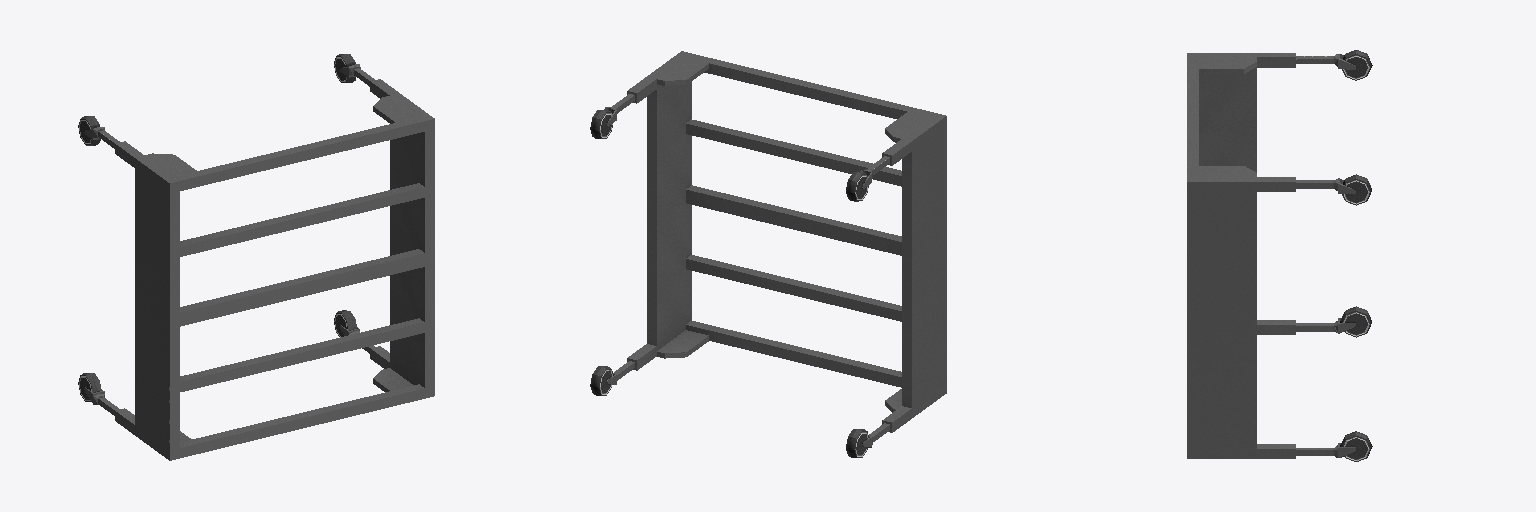
3 renders of one model, left to right at view 1: azimuth 30°, elevation 25°; view 2: azimuth 150°, elevation 25°; view 3: azimuth 270°, elevation 25°, orthographic.
Visible parts, largest first — view 1: cart_Cube; view 2: cart_Cube; view 3: cart_Cube.
Part boxes in pixels (left/top/right/bottom): cart_Cube: left=78, top=54, right=434, bottom=460; cart_Cube: left=590, top=51, right=946, bottom=457; cart_Cube: left=1187, top=50, right=1372, bottom=461.
Size of the model in its own units: 0.8053 by 0.8255 by 0.484.
Materials: 1 (1 with a texture image).